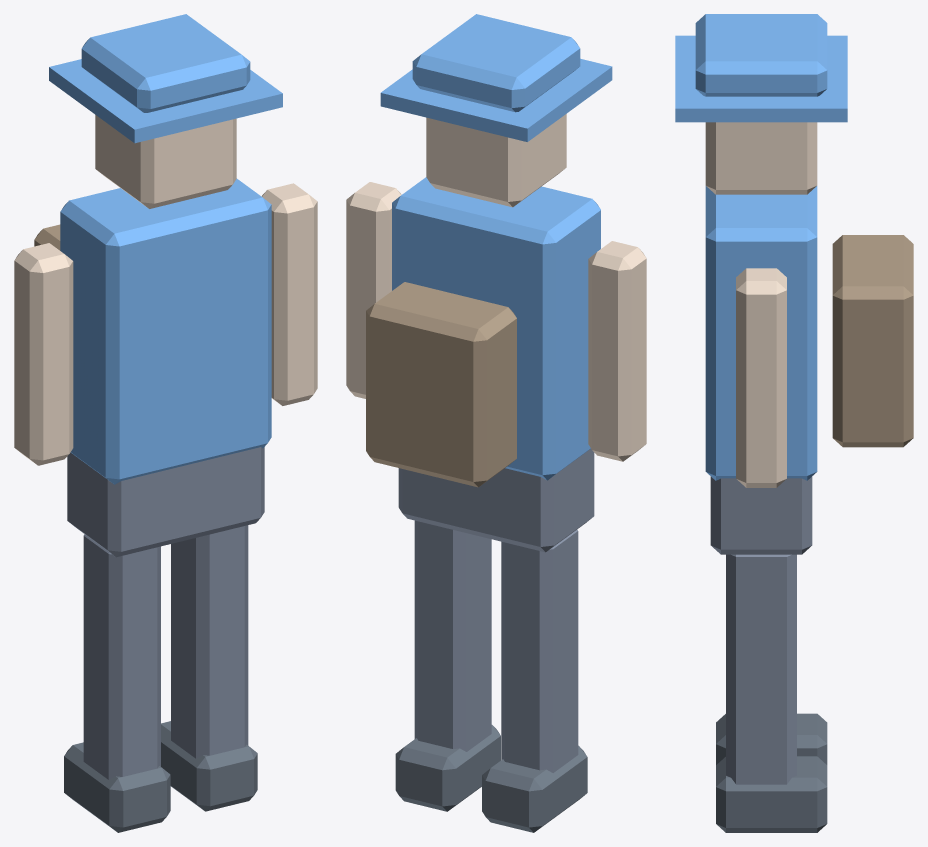
File: pawn_remote.glb
3 renders of one model, left to right at view 1: azimuth 30°, elevation 25°; view 2: azimuth 150°, elevation 25°; view 3: azimuth 270°, elevation 25°, orthographic.
Parts seen in each view (by area): view 1: pawn_remote; view 2: pawn_remote; view 3: pawn_remote.
Boxes of the visible parts, box(x1,y1,x2,y2) form: pawn_remote: box(14, 14, 317, 832); pawn_remote: box(346, 14, 646, 832); pawn_remote: box(675, 14, 913, 832).
Bounding box in the file's own units: 0.66 × 1.66 × 0.47.
